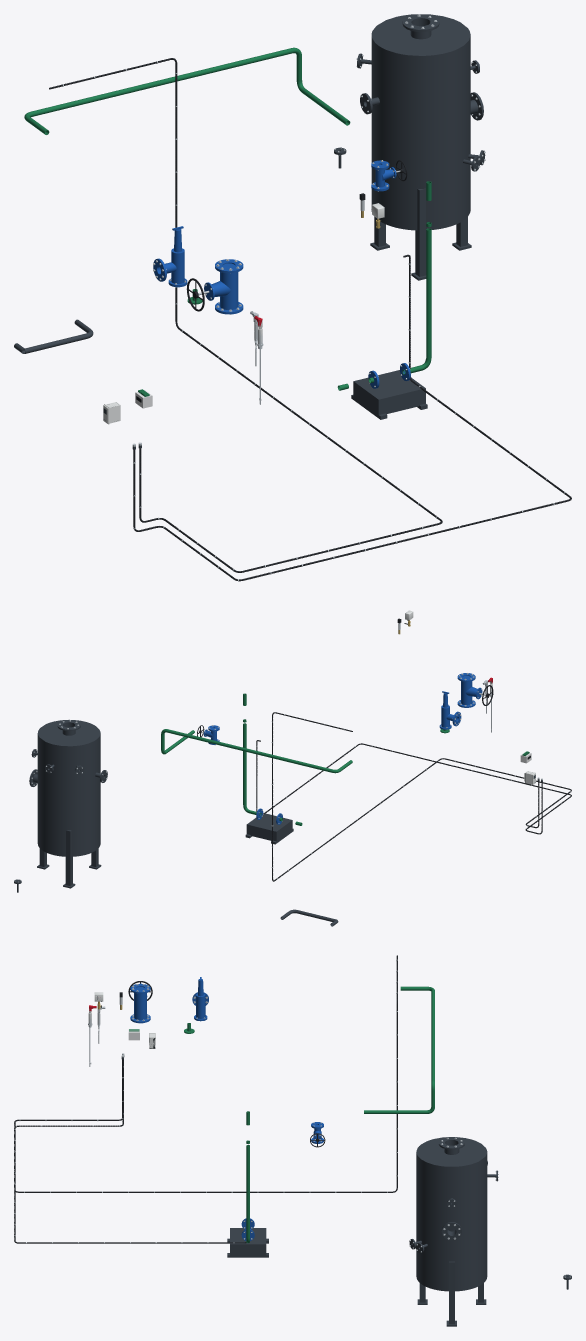
3 renders of one model, top to bottom at view 1: azimuth 30°, elevation 25°; view 2: azimuth 150°, elevation 25°; view 3: azimuth 270°, elevation 25°, orthographic. The views are drawn at different scales.
Parts seen in each view (by area): view 1: separator_bdv60_5 / dark, mod_eco_drive_cable / black, to_direct / green, pump_branch_1 / dark, wiring_pump_1 / black, steam_manual / blue, pump_branch_1 / green, safety_1 / blue; view 2: separator_bdv60_5 / dark, mod_eco_drive_cable / black, to_direct / green, pump_branch_1 / dark, wiring_pump_1 / black, steam_manual / blue, pump_branch_1 / green, safety_1 / blue; view 3: separator_bdv60_5 / dark, mod_eco_drive_cable / black, pump_branch_1 / dark, to_direct / green, wiring_pump_1 / black, steam_manual / blue.
Boxes of the visible parts, x1=… form: separator_bdv60_5 / dark: x1=357, y1=14, x2=485, y2=280; mod_eco_drive_cable / black: x1=49, y1=58, x2=442, y2=572; to_direct / green: x1=24, y1=47, x2=350, y2=134; pump_branch_1 / dark: x1=351, y1=370, x2=427, y2=419; wiring_pump_1 / black: x1=133, y1=254, x2=571, y2=581; steam_manual / blue: x1=204, y1=259, x2=243, y2=314; pump_branch_1 / green: x1=337, y1=181, x2=431, y2=390; safety_1 / blue: x1=153, y1=226, x2=187, y2=287; separator_bdv60_5 / dark: x1=29, y1=719, x2=107, y2=888; mod_eco_drive_cable / black: x1=272, y1=712, x2=571, y2=881; to_direct / green: x1=161, y1=729, x2=352, y2=773; pump_branch_1 / dark: x1=245, y1=813, x2=293, y2=844; wiring_pump_1 / black: x1=256, y1=740, x2=571, y2=834; steam_manual / blue: x1=457, y1=673, x2=482, y2=707; pump_branch_1 / green: x1=243, y1=693, x2=302, y2=825; safety_1 / blue: x1=439, y1=691, x2=461, y2=729; separator_bdv60_5 / dark: x1=409, y1=1137, x2=497, y2=1326; mod_eco_drive_cable / black: x1=14, y1=955, x2=397, y2=1192; pump_branch_1 / dark: x1=227, y1=1228, x2=268, y2=1257; to_direct / green: x1=364, y1=986, x2=434, y2=1113; wiring_pump_1 / black: x1=14, y1=1059, x2=246, y2=1243; steam_manual / blue: x1=130, y1=983, x2=150, y2=1023.
Bounding box in the file's own units: 5.19 × 2.57 × 6.03.
